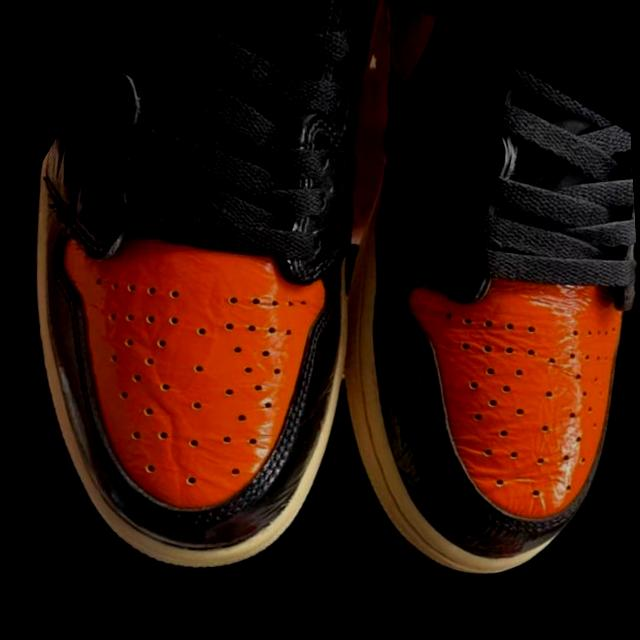nike_original_jordan: (0, 0, 582, 628), (123, 0, 640, 632)
